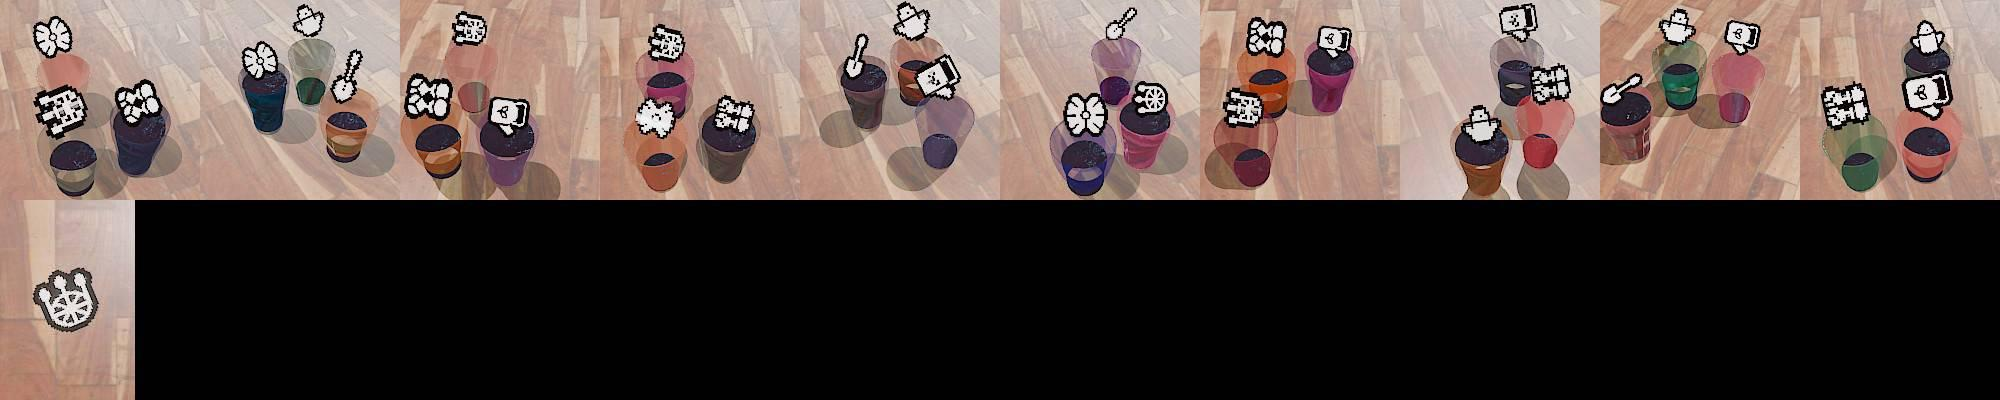icon: (31, 266, 101, 334), (32, 85, 89, 140), (115, 78, 166, 129), (1821, 82, 1872, 129), (404, 73, 453, 121), (911, 54, 960, 101), (1902, 73, 1952, 117), (1064, 90, 1108, 138), (1528, 61, 1571, 106), (634, 94, 677, 139), (330, 48, 365, 103), (712, 94, 756, 135), (1246, 17, 1288, 57), (1222, 87, 1264, 127), (33, 17, 73, 60), (486, 96, 531, 134), (1462, 103, 1504, 143), (1499, 3, 1538, 42), (1657, 6, 1696, 46), (892, 1, 930, 42), (241, 41, 279, 80), (648, 23, 685, 62), (1131, 80, 1170, 117), (1602, 71, 1643, 106), (1723, 19, 1761, 55), (1909, 20, 1948, 55), (292, 4, 327, 39), (453, 10, 487, 46), (1106, 5, 1136, 42), (846, 32, 869, 80), (1316, 24, 1351, 56)
